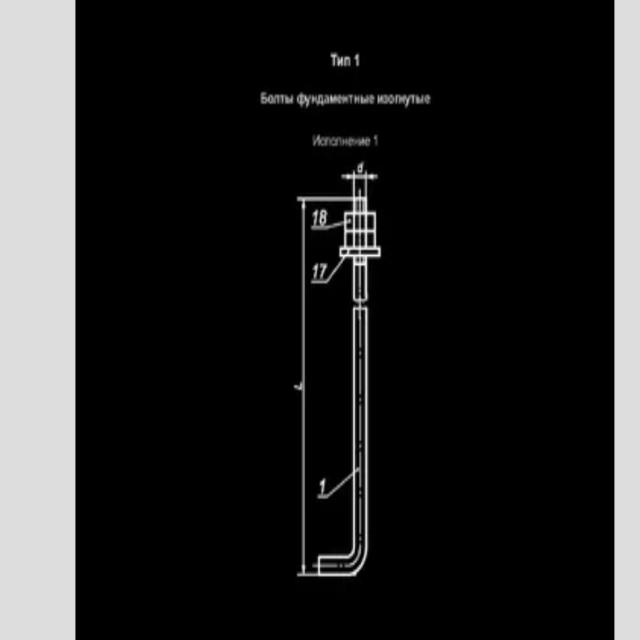marking_line: (295, 195, 335, 554), (295, 194, 318, 582), (296, 192, 353, 210), (340, 169, 379, 195)
numeric: (317, 456, 351, 501), (310, 259, 344, 286), (311, 205, 344, 231), (354, 52, 361, 69), (373, 135, 379, 149)
